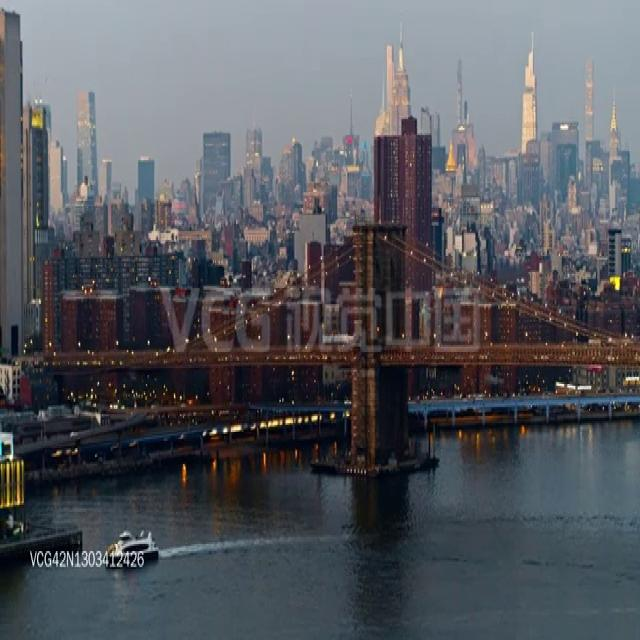houseboat: (106, 523, 158, 561)
